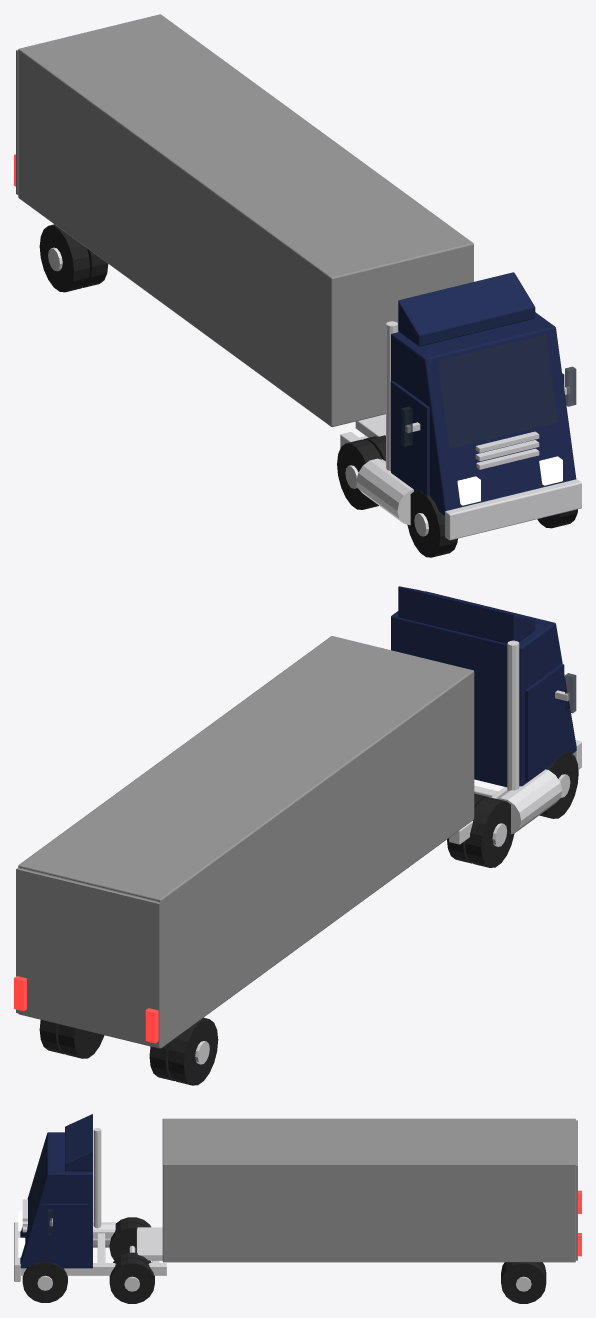
File: truck.glb
3 views of the same model, one above another, from view 1: azimuth 30°, elevation 25°; view 2: azimuth 150°, elevation 25°; view 3: azimuth 270°, elevation 25° (orthographic). The views are drawn at different scales.
Parts seen in each view (by area): view 1: Truck_Body, Truck_Cab, Windshield, Cab_Spoiler, Bumper_Front, Door_Cab_R, Wheel_RR, Fuel_Tank, Wheel_Drive_R, Wheel_FR, Exhaust_Stack; view 2: Truck_Body, Truck_Cab, Door_Trailer_R, Door_Trailer_L, Cab_Spoiler, Door_Cab_R, Wheel_RR, Wheel_Drive_R, Fuel_Tank, Exhaust_Stack, Wheel_RL, Wheel_FR; view 3: Truck_Body, Truck_Cab, Door_Cab_L, Wheel_Drive_L, Wheel_RL, Cab_Spoiler, Wheel_FL, Truck_Chassis, Wheel_Drive_R, Exhaust_Stack, Fifth_Wheel, Windshield (+1 smaller).
Boxes of the visible parts, left/top/right/bottom form: Truck_Body: left=18, top=14, right=473, bottom=427; Truck_Cab: left=391, top=312, right=576, bottom=515; Windshield: left=437, top=334, right=557, bottom=448; Cab_Spoiler: left=398, top=272, right=535, bottom=346; Bumper_Front: left=445, top=479, right=581, bottom=540; Door_Cab_R: left=390, top=381, right=429, bottom=495; Wheel_RR: left=39, top=224, right=108, bottom=292; Fuel_Tank: left=356, top=458, right=413, bottom=525; Wheel_Drive_R: left=337, top=435, right=385, bottom=509; Wheel_FR: left=407, top=490, right=457, bottom=557; Exhaust_Stack: left=386, top=321, right=397, bottom=470; Truck_Body: left=18, top=636, right=474, bottom=1048; Truck_Cab: left=391, top=591, right=576, bottom=787; Door_Trailer_R: left=87, top=885, right=160, bottom=1047; Door_Trailer_L: left=16, top=868, right=88, bottom=1030; Cab_Spoiler: left=398, top=586, right=535, bottom=643; Door_Cab_R: left=525, top=664, right=564, bottom=780; Wheel_RR: left=149, top=1017, right=218, bottom=1085; Wheel_Drive_R: left=447, top=793, right=514, bottom=867; Fuel_Tank: left=496, top=769, right=561, bottom=834; Exhaust_Stack: left=507, top=640, right=519, bottom=790; Wheel_RL: left=39, top=1020, right=104, bottom=1058; Wheel_FR: left=539, top=751, right=578, bottom=818; Truck_Body: left=162, top=1118, right=575, bottom=1262; Truck_Cab: left=20, top=1132, right=92, bottom=1268; Door_Cab_L: left=41, top=1203, right=88, bottom=1263; Wheel_Drive_L: left=109, top=1252, right=154, bottom=1303; Wheel_RL: left=501, top=1262, right=546, bottom=1303; Cab_Spoiler: left=65, top=1114, right=92, bottom=1171; Wheel_FL: left=22, top=1262, right=67, bottom=1302; Truck_Chassis: left=21, top=1230, right=166, bottom=1275; Wheel_Drive_R: left=109, top=1217, right=150, bottom=1260; Exhaust_Stack: left=93, top=1128, right=101, bottom=1228; Fifth_Wheel: left=136, top=1227, right=162, bottom=1260; Windshield: left=30, top=1140, right=45, bottom=1223.
Bounding box in the file's own units: 3 × 3.76 × 13.06.
